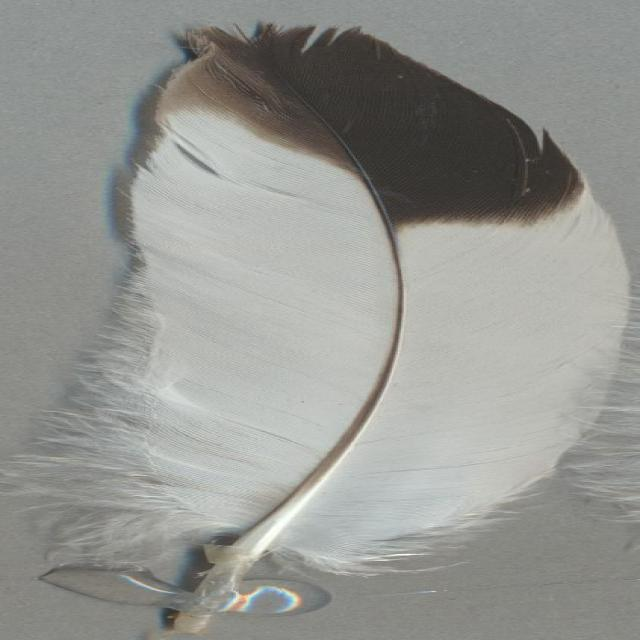feather: (30, 17, 640, 631)
